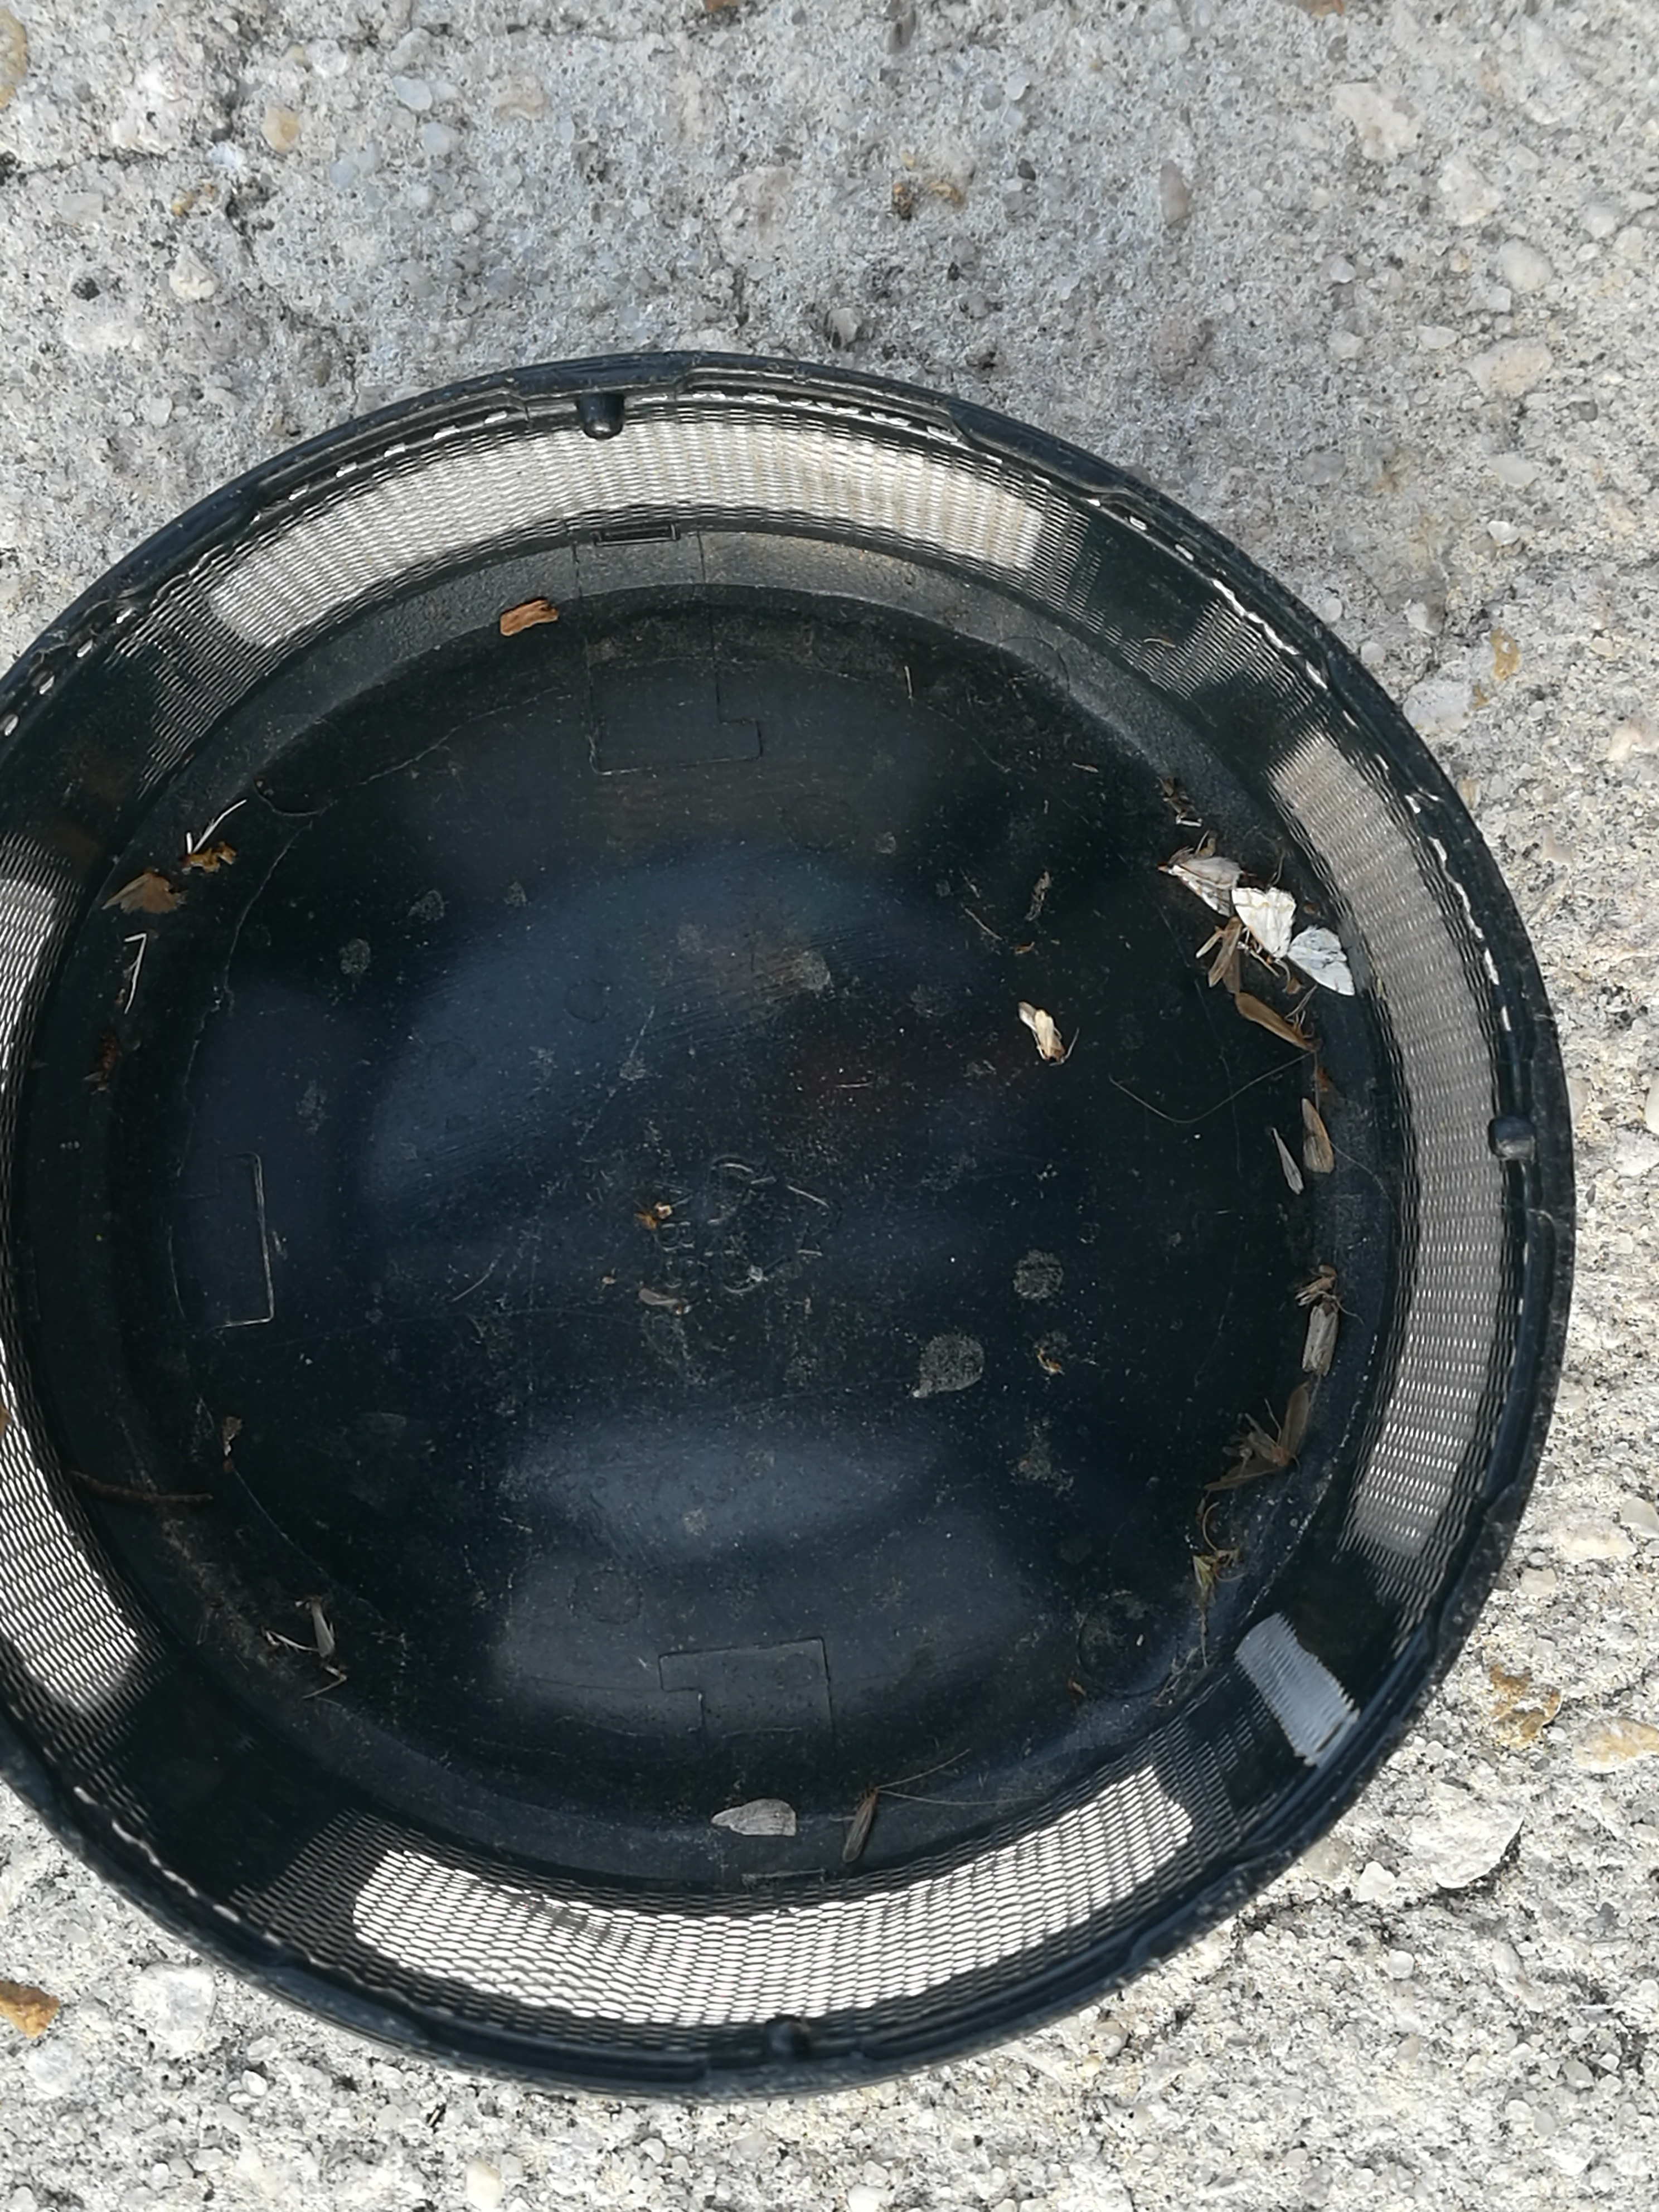mosquito: (1239, 996, 1312, 1055), (840, 1787, 878, 1869), (1303, 1299, 1337, 1371), (1204, 923, 1239, 988)
moth: (1234, 888, 1354, 996), (1204, 1386, 1307, 1491), (1166, 855, 1239, 918)
